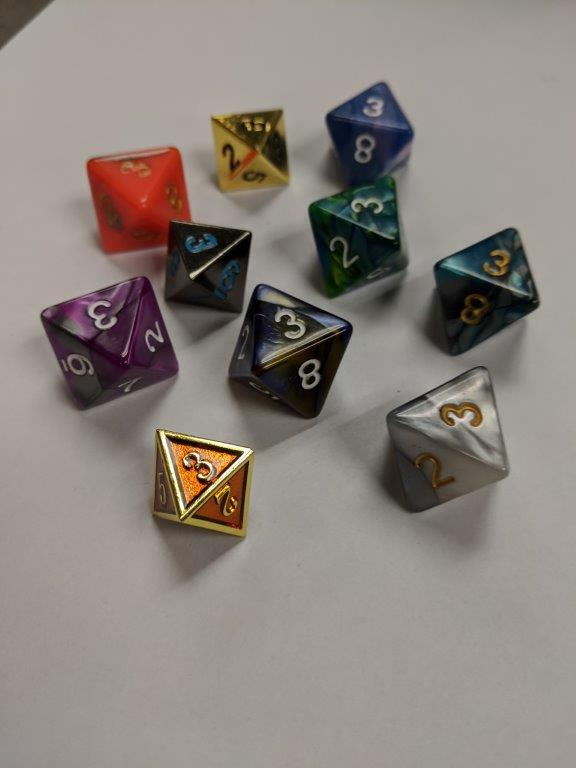d8-3: (387, 365, 515, 518), (39, 273, 179, 412), (226, 278, 356, 421), (433, 227, 541, 358), (306, 172, 412, 296), (151, 427, 252, 538), (87, 147, 190, 251), (324, 80, 415, 187), (213, 104, 296, 195), (166, 222, 252, 309)
